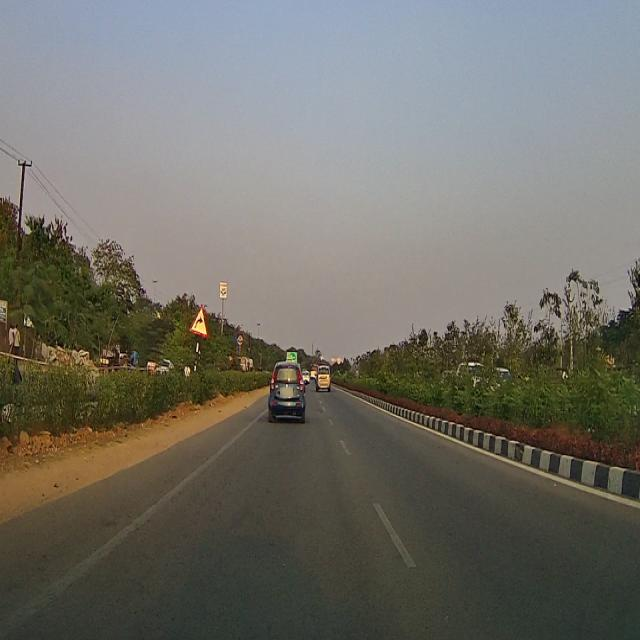right-hand-curve: (190, 303, 208, 340)
